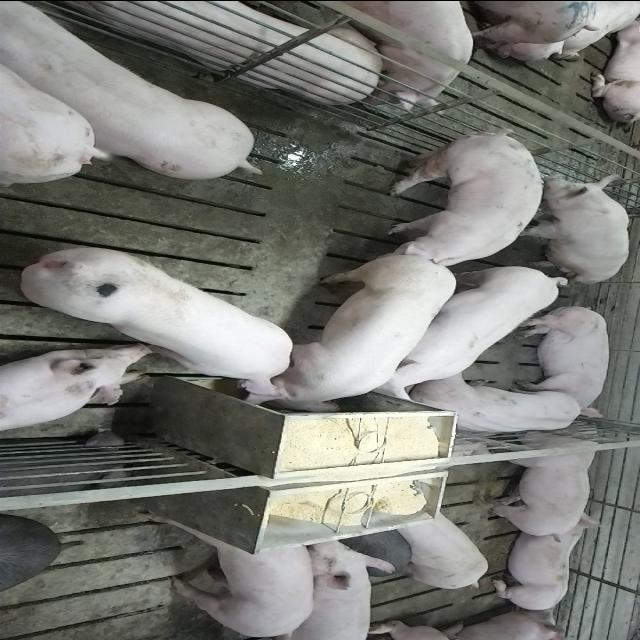Feeding: (18, 244, 298, 401), (254, 256, 466, 419)
Lateral_lying: (32, 0, 386, 101), (512, 304, 612, 418)
Sitting: (512, 173, 632, 285)
Standing: (0, 0, 260, 180), (356, 262, 573, 398), (379, 121, 547, 263), (162, 518, 318, 638), (467, 421, 603, 540), (338, 0, 474, 108), (268, 532, 396, 636), (392, 506, 488, 590)
Sternal_lying: (0, 346, 154, 434), (488, 521, 608, 611), (409, 376, 585, 436)
